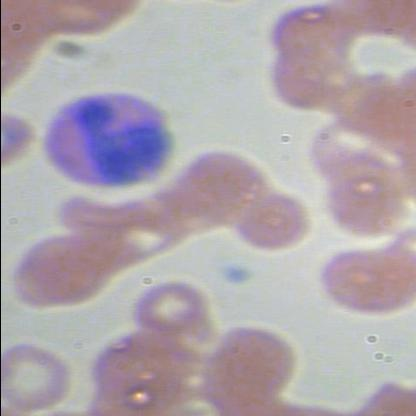Platelets: (216, 262, 256, 286)
WBC: (35, 81, 179, 196)
